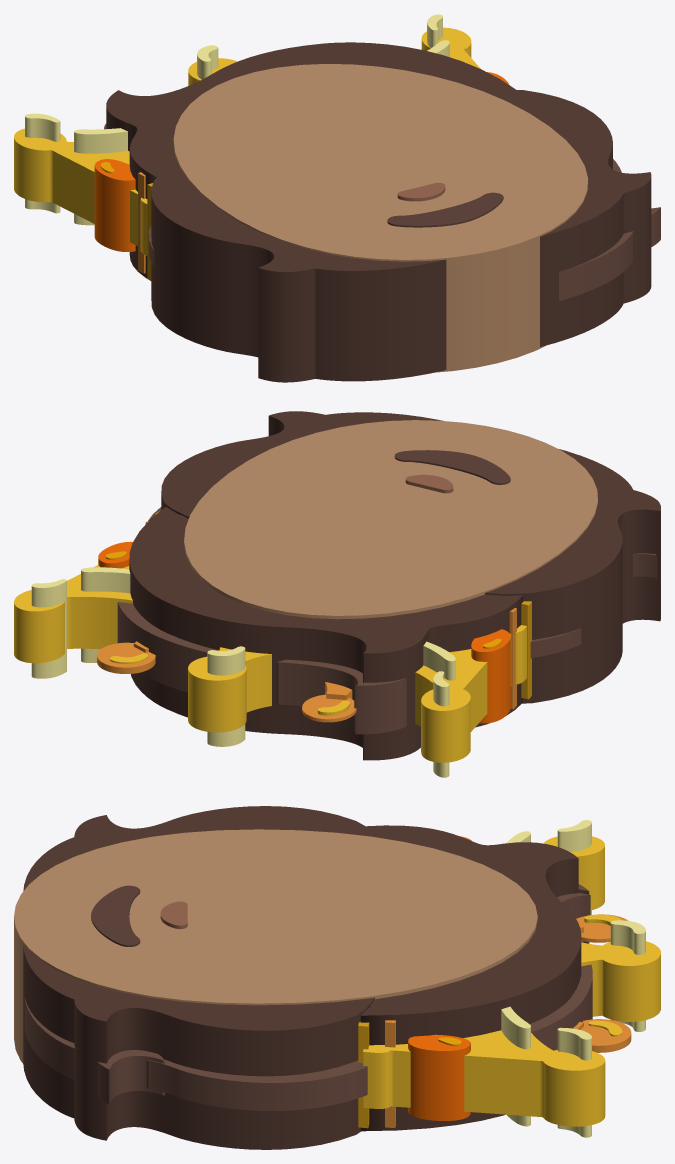
The model's file is emoji_u1fac5_1f3fd.glb.
3 views of the same model, one above another, from view 1: azimuth 30°, elevation 25°; view 2: azimuth 150°, elevation 25°; view 3: azimuth 270°, elevation 25° (orthographic). The views are drawn at different scales.
Visible parts, largest first — view 1: emoji_u1fac5_1f3fd; view 2: emoji_u1fac5_1f3fd; view 3: emoji_u1fac5_1f3fd.
Part boxes in pixels (<box>): emoji_u1fac5_1f3fd: <box>14,14,660,382</box>; emoji_u1fac5_1f3fd: <box>14,411,660,777</box>; emoji_u1fac5_1f3fd: <box>14,806,660,1149</box>.
Bounding box in the file's own units: 0.0289 × 0.0074 × 0.0335.
